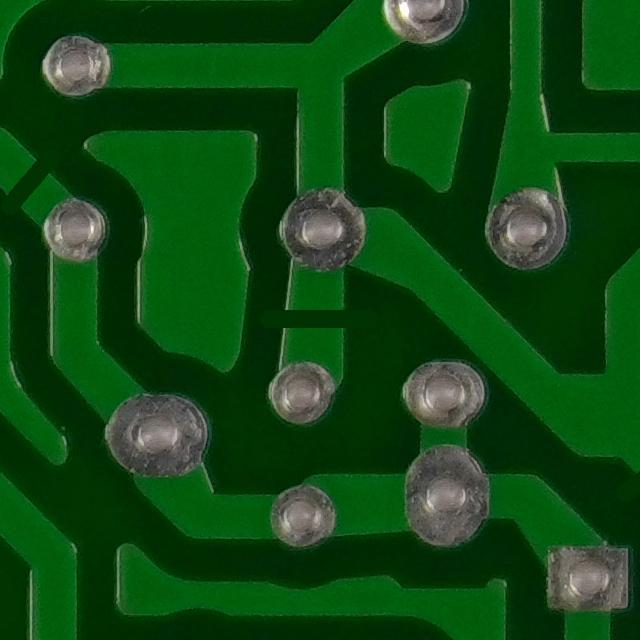open_circuit: (266, 291, 375, 349)
